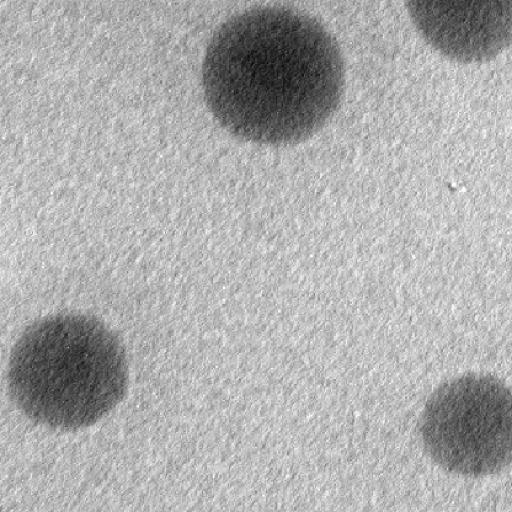Nanoparticles: (200, 2, 349, 148), (8, 310, 128, 431), (419, 370, 512, 475), (406, 0, 512, 63)
